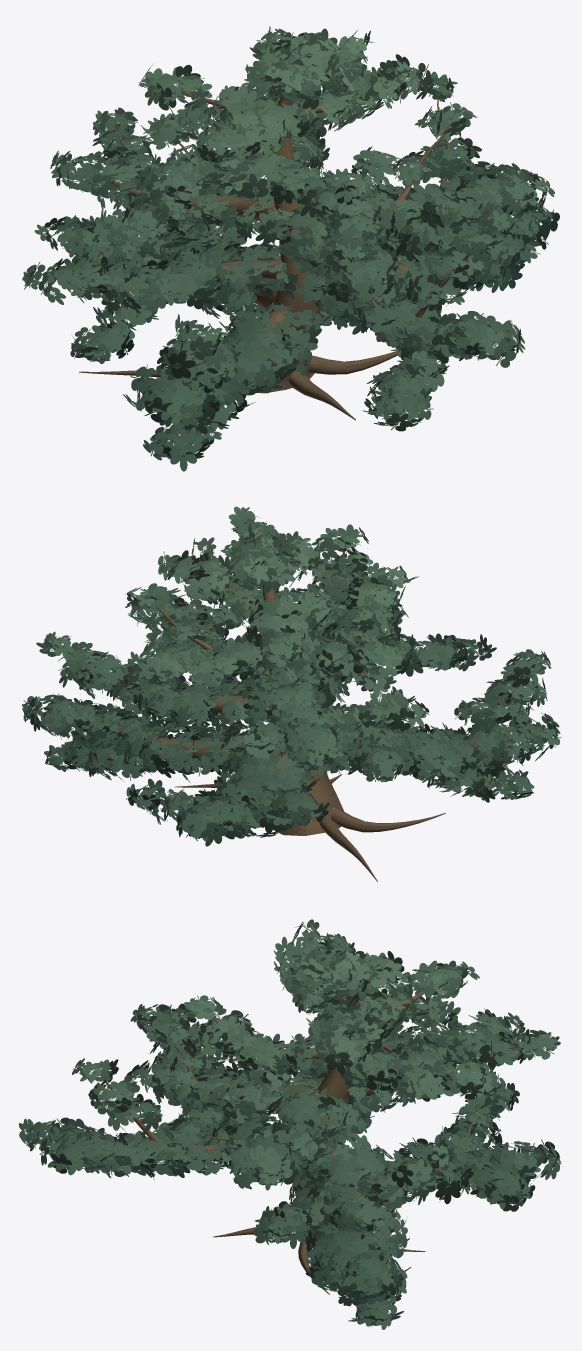
File: tree.gltf
3 views of the same model, one above another, from view 1: azimuth 30°, elevation 25°; view 2: azimuth 150°, elevation 25°; view 3: azimuth 270°, elevation 25° (orthographic). The views are drawn at different scales.
Visible parts, largest first — view 1: Tree_LOD0; view 2: Tree_LOD0; view 3: Tree_LOD0.
Part boxes in pixels (x1,y1,x2,y2): Tree_LOD0: (22,26,559,471); Tree_LOD0: (22,506,561,881); Tree_LOD0: (19,919,562,1329).
Bounding box in the file's own units: 12.43 × 7.55 × 12.25.
2 materials, 2 textured.
